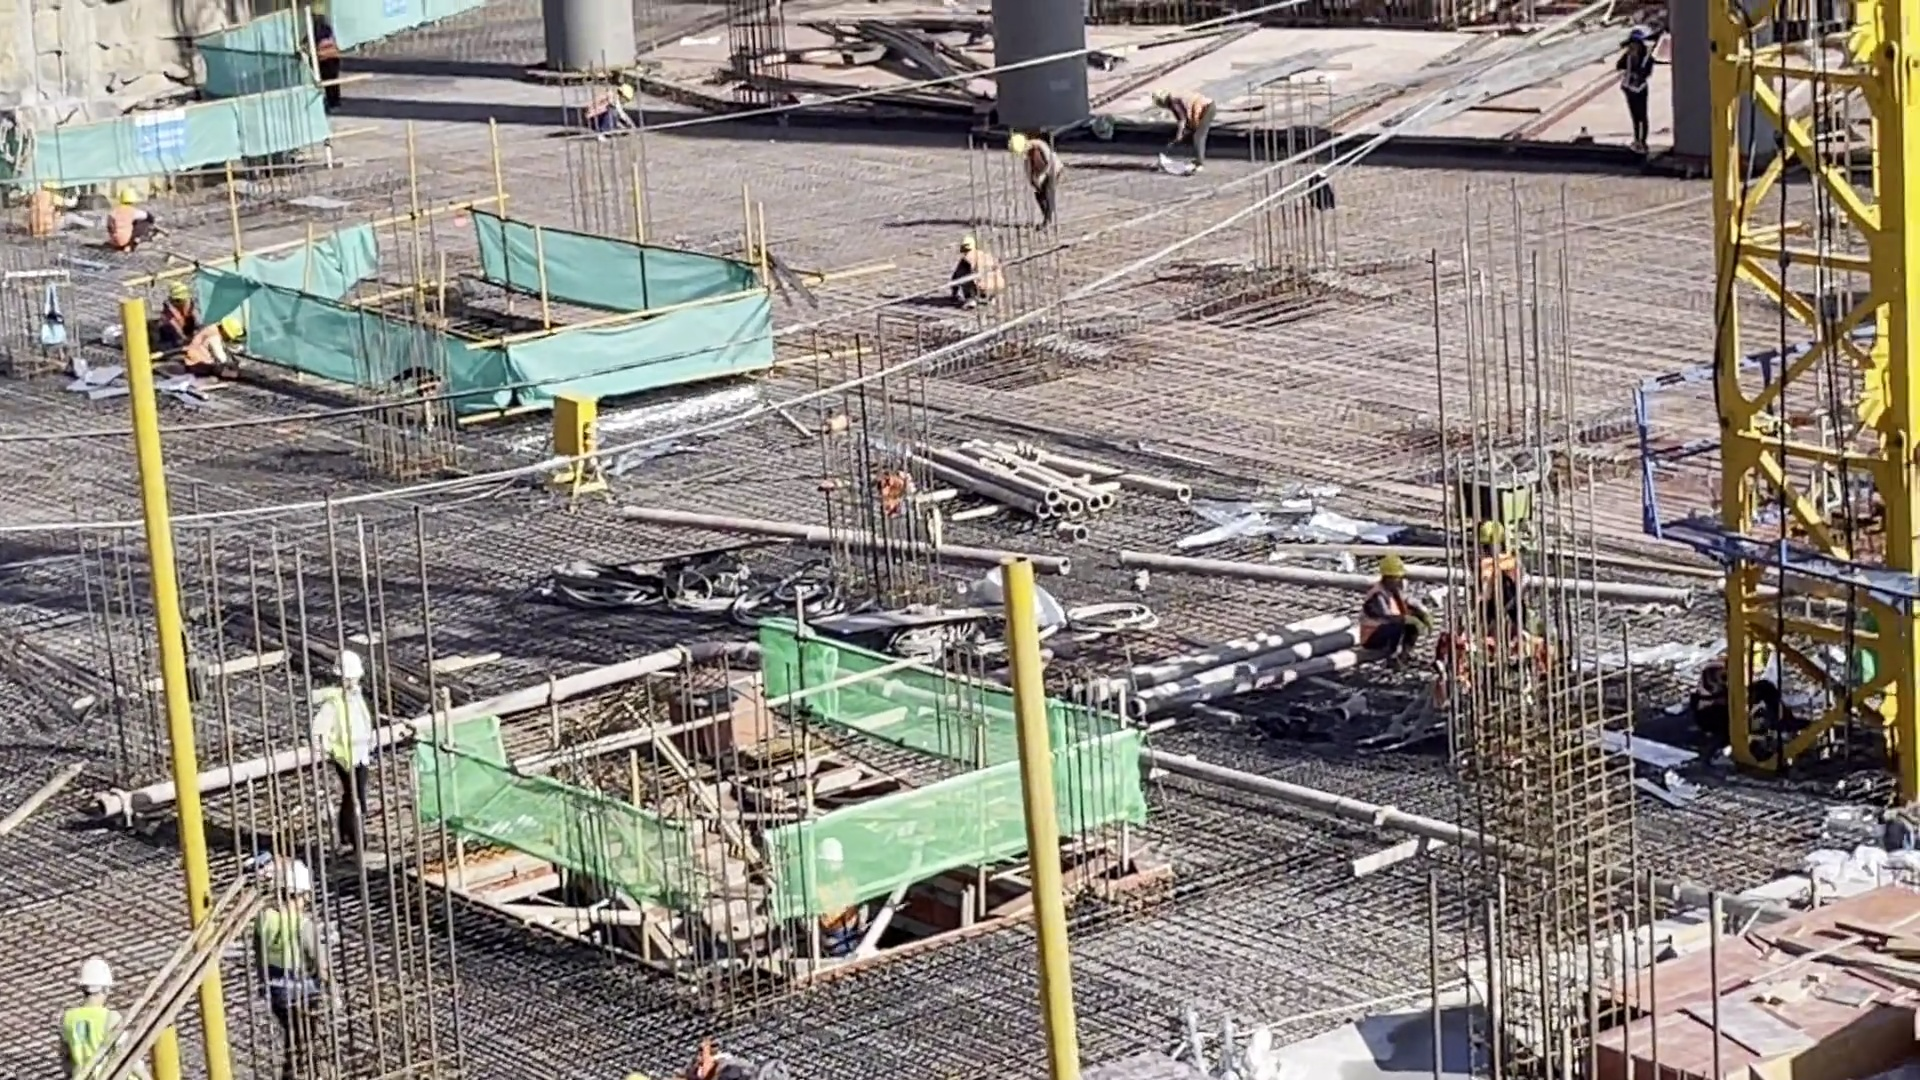ebox: (541, 386, 608, 510)
helmet: (75, 957, 113, 989), (332, 648, 367, 682), (271, 869, 311, 898), (1382, 559, 1409, 583), (217, 316, 242, 337), (1006, 134, 1029, 156), (117, 186, 141, 205), (619, 82, 636, 101), (1624, 29, 1647, 42)
person: (253, 865, 325, 1080), (320, 652, 378, 853), (1342, 545, 1430, 669), (58, 954, 135, 1080), (805, 829, 865, 960), (1005, 134, 1076, 234), (1150, 89, 1220, 172), (1616, 28, 1660, 157), (95, 186, 170, 251), (949, 234, 1012, 307), (184, 316, 250, 380), (585, 83, 643, 143), (154, 279, 192, 361)
vest: (259, 906, 323, 1006), (57, 1008, 130, 1080), (321, 693, 368, 785), (1368, 590, 1414, 654), (1026, 142, 1062, 192), (587, 88, 622, 133), (1169, 91, 1208, 128), (1622, 48, 1653, 92), (965, 254, 1001, 293), (110, 206, 133, 250)
